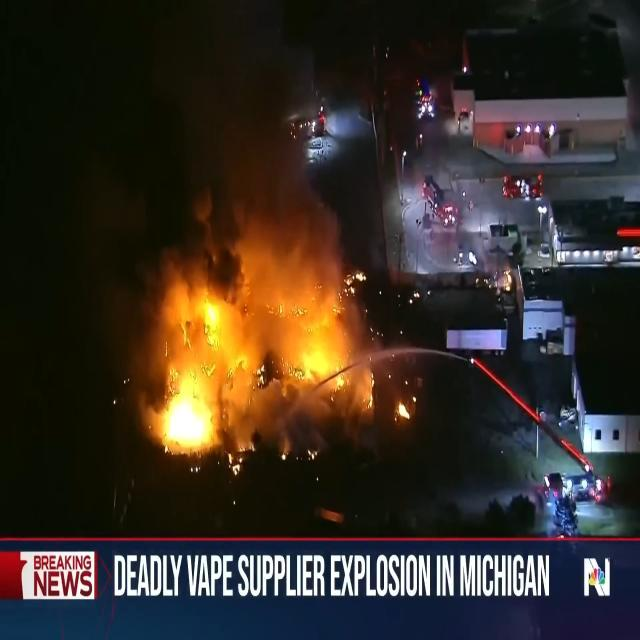fire: (148, 200, 340, 460)
